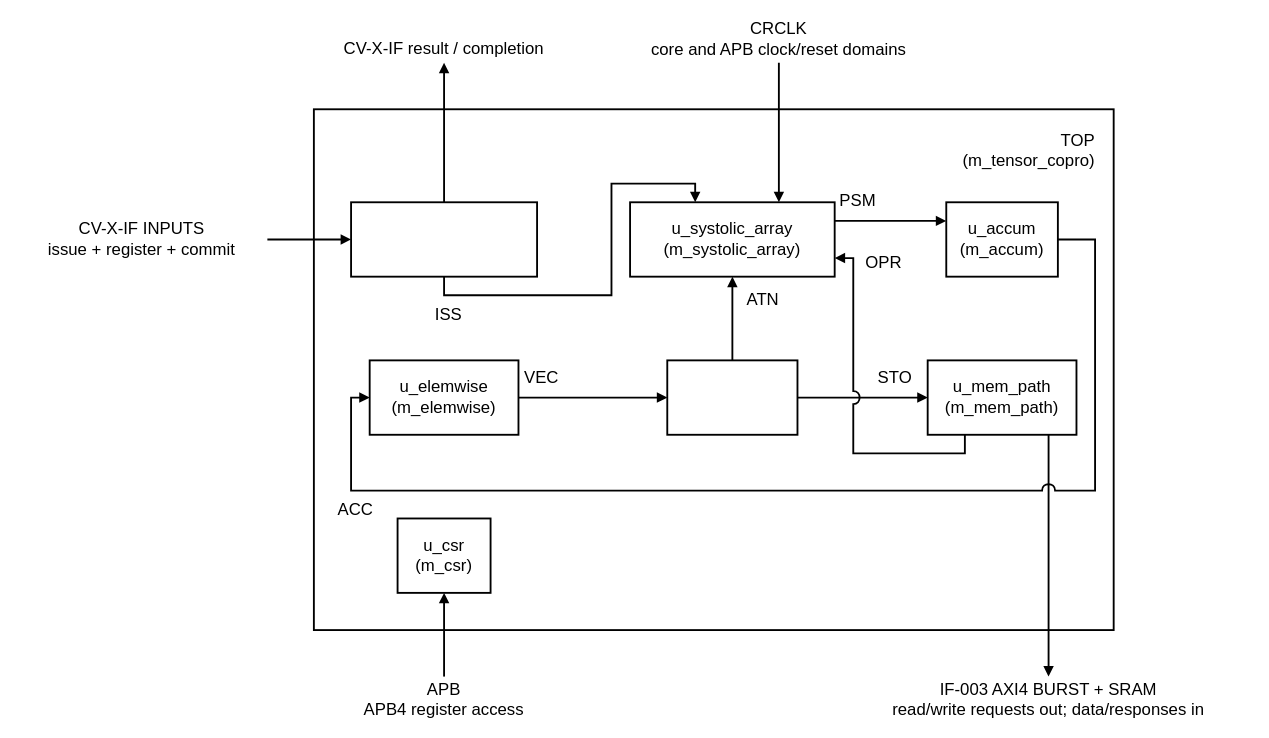
Image size: 1269x738. Some labels were removed from this diagram. Here are the shapes that lost their labels. From the top down, the centre of each, then its label:
(x=444, y=239): u_cvxif_adapter (m_cvxif_adapter)
(x=732, y=397): u_reduce (m_reduce)
